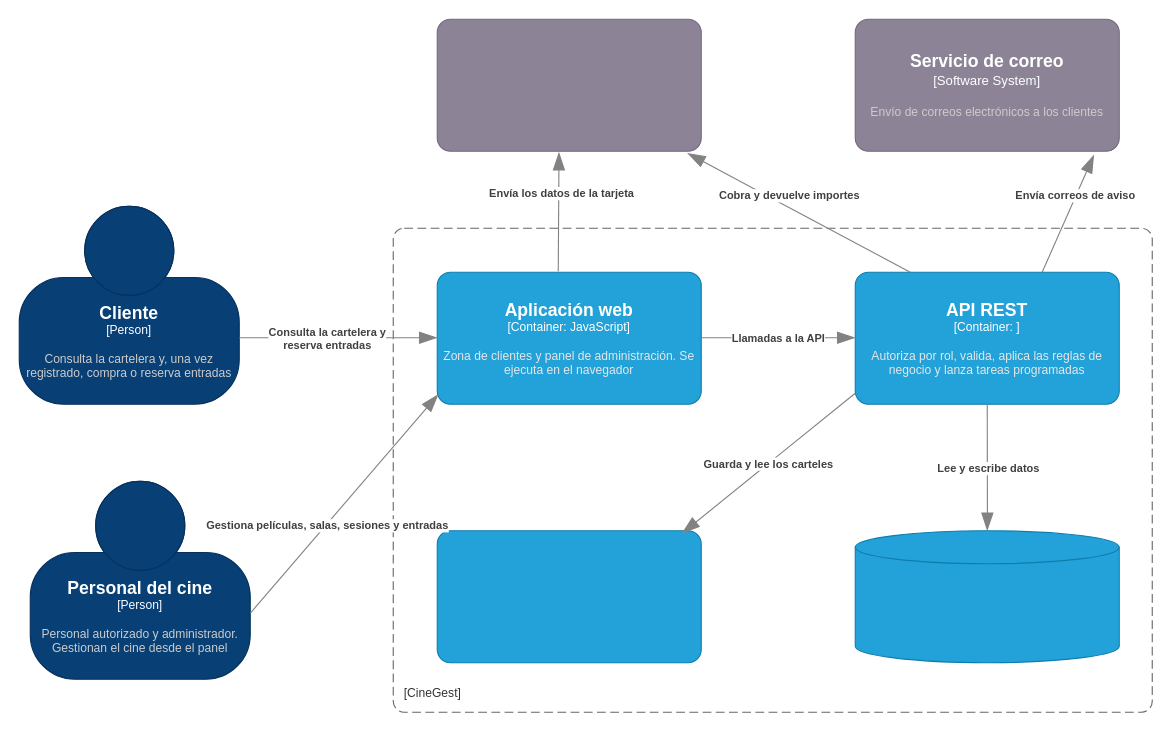
This 1172x732 diagram has some shape labels left out. The centre of each missing label's shape, as x and y in pixels:
Almacén de imágenes [Container: ] Carteles de las películas: the point at 568,596
Base de datos [Container: MySQL] Usuarios, películas, salas, sesiones y entradas: the point at 986,596
Stripe [Software System] Pasarela de pago: cobros y devoluciones con tarjeta: the point at 568,84
